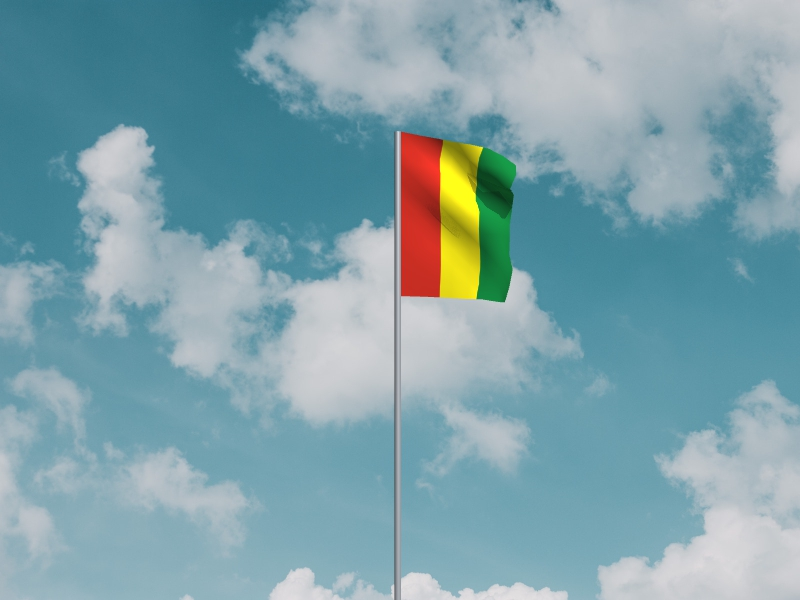bo: (402, 133, 519, 305)
